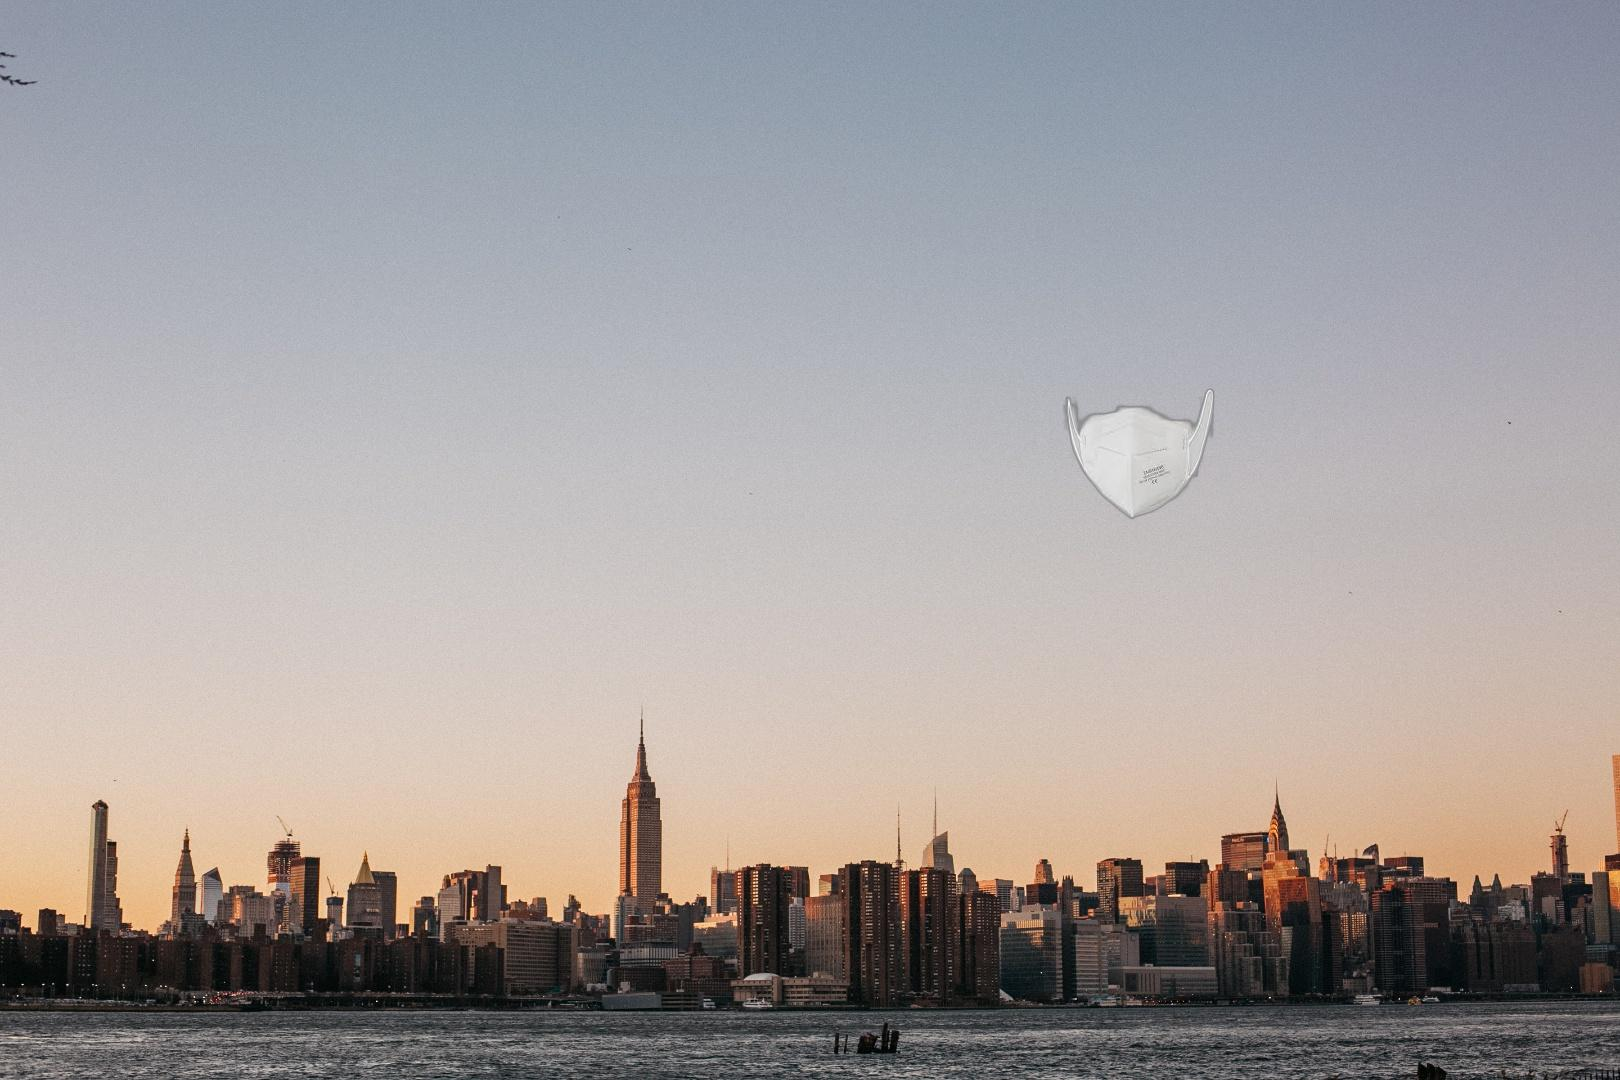trash: (1061, 386, 1217, 522)
